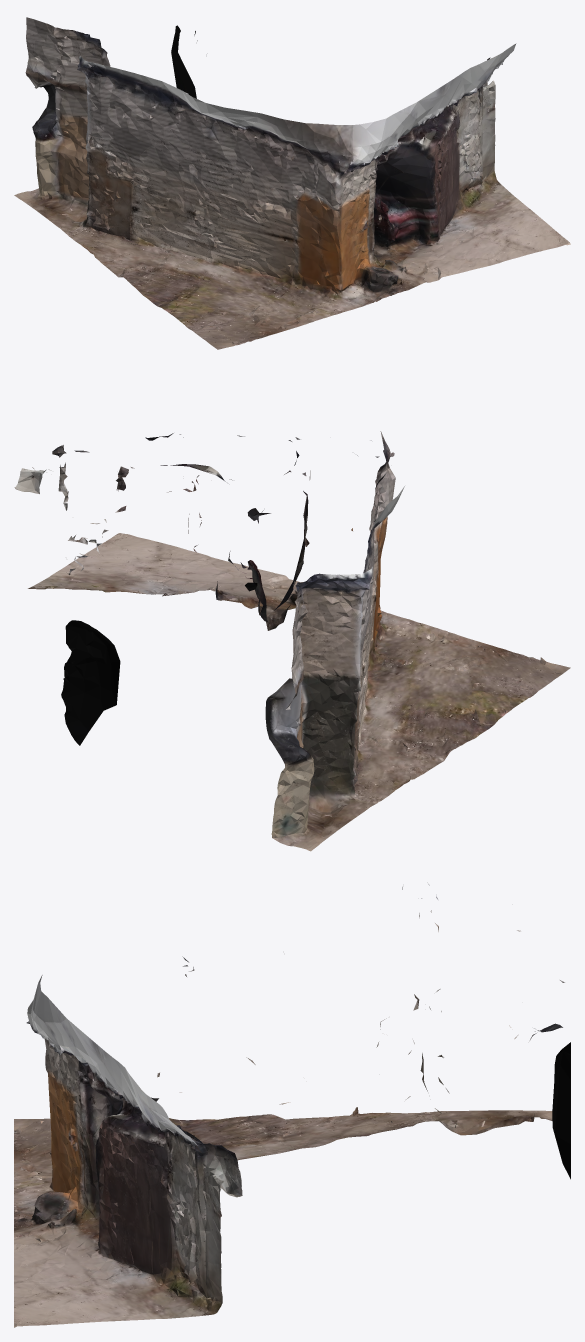
3 views of the same model, one above another, from view 1: azimuth 30°, elevation 25°; view 2: azimuth 150°, elevation 25°; view 3: azimuth 270°, elevation 25° (orthographic). The views are drawn at different scales.
Bounding box in the file's own units: 10.44 × 5.13 × 10.44.
4 materials, 4 textured.
